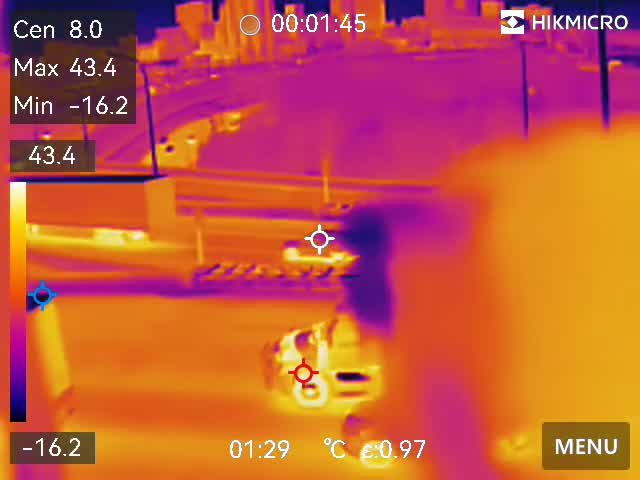heavyTruck: (25, 170, 184, 242)
vehicle: (277, 220, 357, 262)
